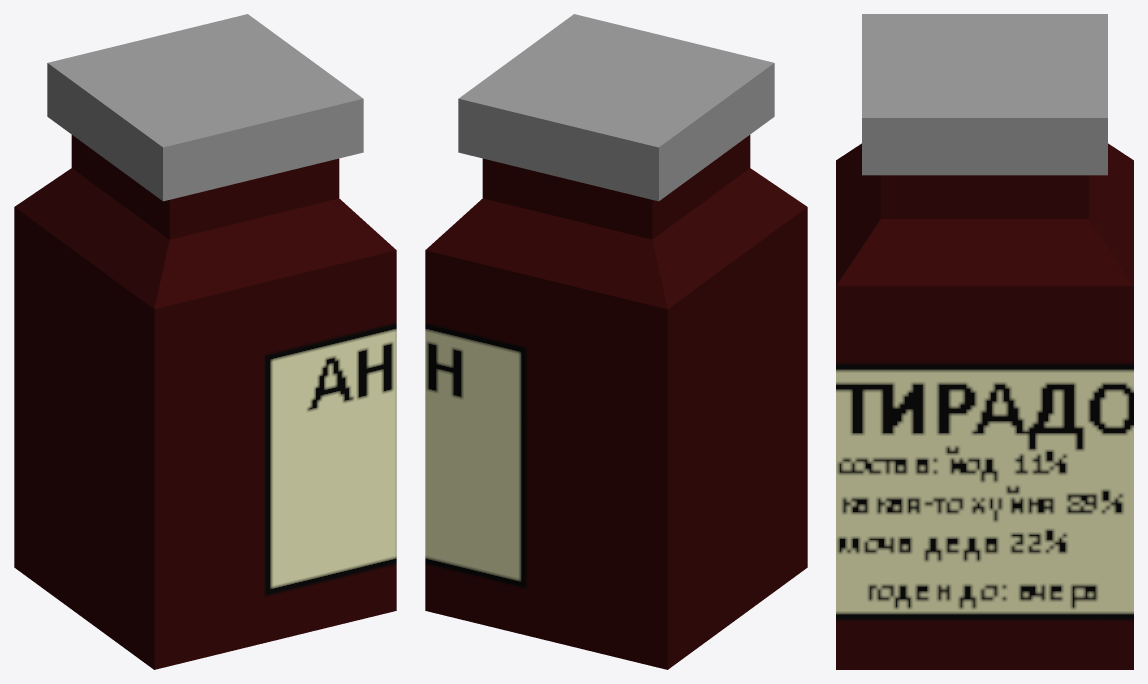
File: pills_bottle.fbx
3 views of the same model, side by side, from view 1: azimuth 30°, elevation 25°; view 2: azimuth 150°, elevation 25°; view 3: azimuth 270°, elevation 25° (orthographic). The views are drawn at different scales.
Visible parts, largest first — view 1: Cube; view 2: Cube; view 3: Cube.
Boxes of the visible parts, <box> form: Cube: <box>14,14,396,669</box>; Cube: <box>425,14,807,669</box>; Cube: <box>836,14,1133,669</box>.
Size of the model in its own units: 200 by 401 by 200.
